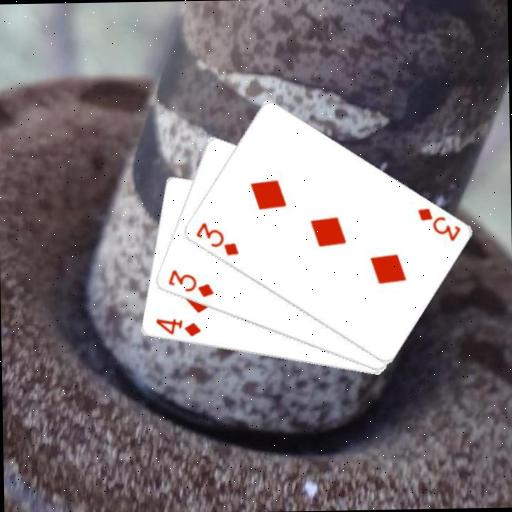3D: (192, 219, 240, 259), (414, 204, 462, 244), (165, 265, 216, 299)
4D: (152, 316, 202, 340)
